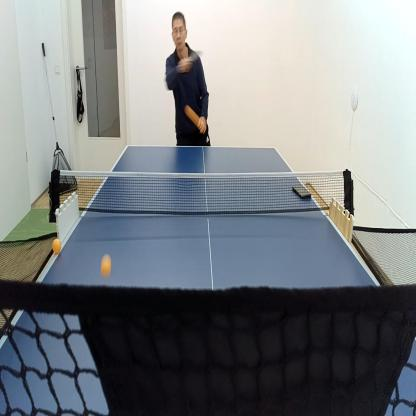Ball: (185, 105, 203, 128), (100, 255, 112, 275), (53, 238, 61, 254)
